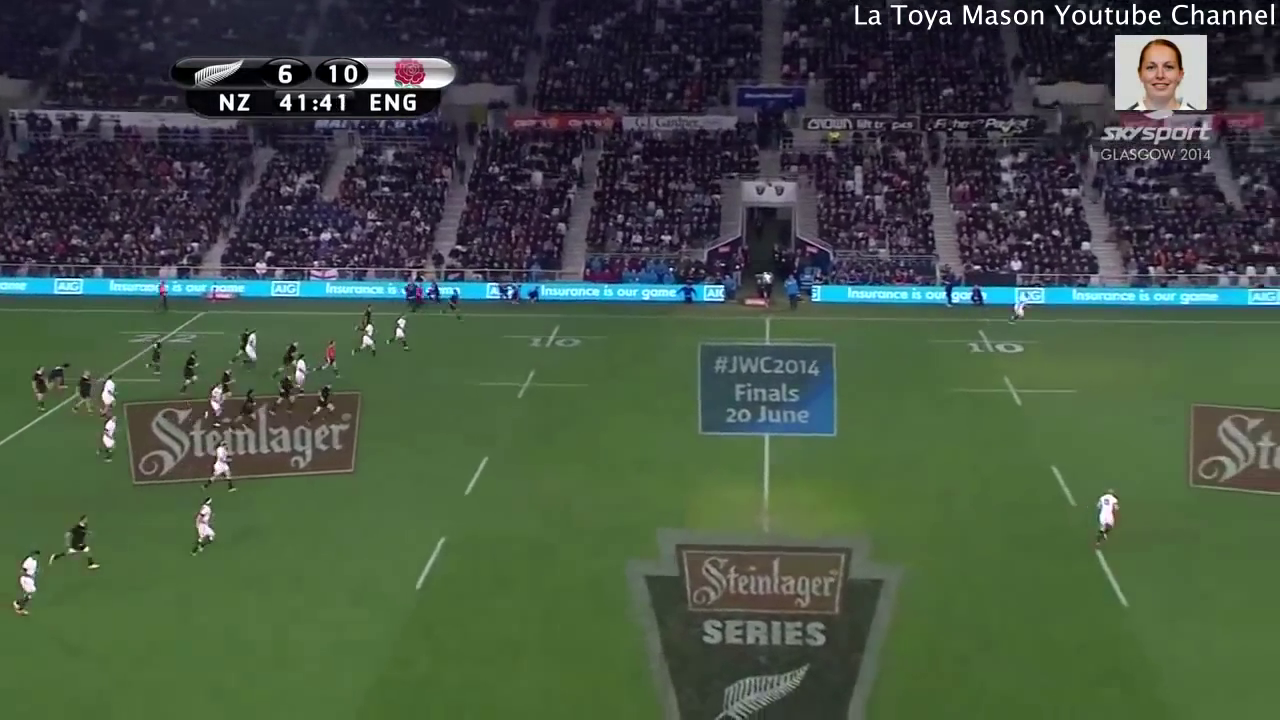10_metre: (949, 374, 1077, 411), (478, 366, 589, 403), (925, 328, 1045, 357), (500, 323, 606, 355), (49, 510, 101, 572), (9, 543, 48, 622), (197, 440, 242, 494), (1091, 482, 1123, 549), (191, 493, 218, 556), (94, 414, 121, 466), (309, 335, 340, 379), (269, 372, 296, 418), (93, 373, 119, 419), (199, 383, 226, 427), (386, 313, 414, 355), (29, 362, 52, 413), (270, 338, 299, 377), (71, 369, 95, 416), (46, 360, 73, 399), (235, 388, 261, 428), (308, 383, 334, 423), (142, 335, 164, 379), (179, 349, 200, 394), (289, 353, 310, 394), (215, 366, 238, 403), (230, 326, 251, 366), (1008, 290, 1029, 329), (356, 320, 377, 355), (244, 329, 261, 369), (353, 303, 373, 331)
